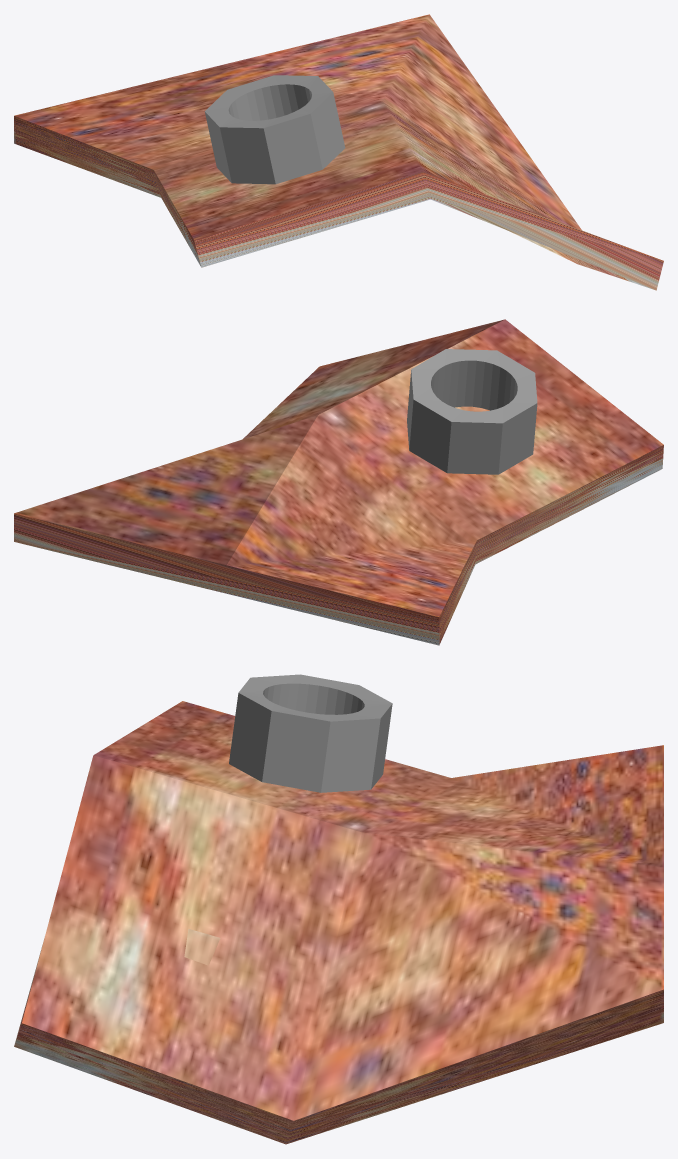
Rendered from scrap_metal.fbx.
3 views of the same model, one above another, from view 1: azimuth 30°, elevation 25°; view 2: azimuth 150°, elevation 25°; view 3: azimuth 270°, elevation 25° (orthographic). The views are drawn at different scales.
Visible parts, largest first — view 1: Plate, Nut; view 2: Plate, Nut; view 3: Plate, Nut.
Part boxes in pixels (box(x1,y1,x2,y2)): Plate: box(14, 14, 663, 290); Nut: box(204, 75, 345, 184); Plate: box(14, 319, 663, 645); Nut: box(407, 349, 537, 474); Plate: box(14, 701, 663, 1144); Nut: box(229, 674, 392, 792).
Bounding box in the file's own units: 210 × 109 × 225.
